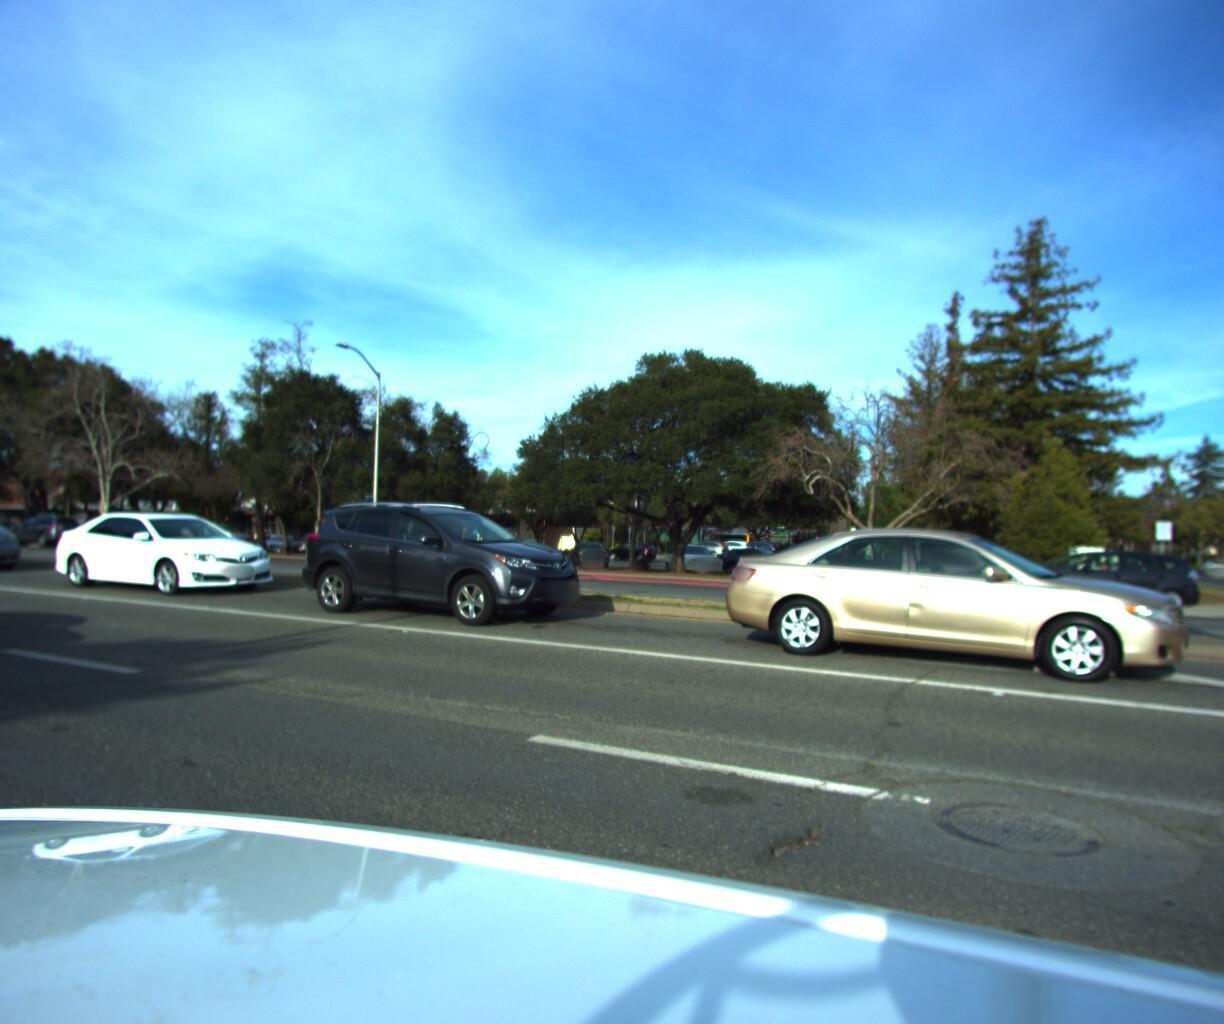car: (697, 514, 1200, 692), (276, 490, 593, 637), (30, 501, 285, 599), (981, 541, 1220, 608), (152, 513, 255, 552), (1, 506, 89, 545), (0, 489, 26, 576)
